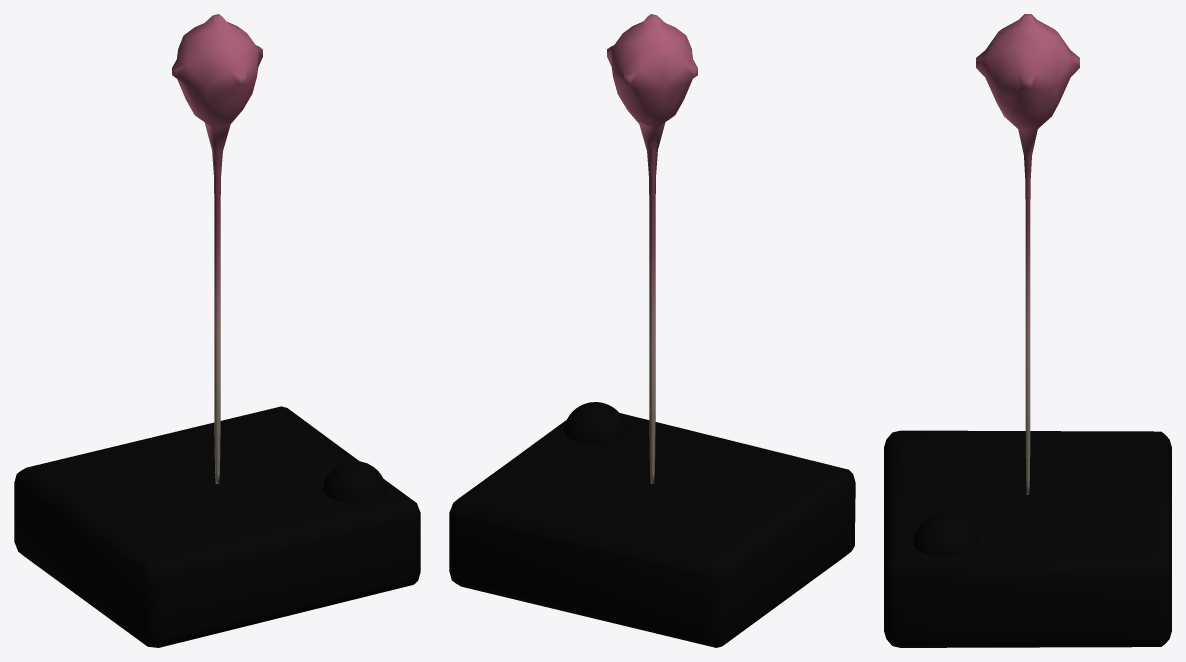
File: lever.glb
3 views of the same model, side by side, from view 1: azimuth 30°, elevation 25°; view 2: azimuth 150°, elevation 25°; view 3: azimuth 270°, elevation 25° (orthographic). The views are drawn at different scales.
Parts seen in each view (by area): view 1: lever_base, handle, lamp; view 2: lever_base, handle, lamp; view 3: lever_base, handle, lamp.
Boxes of the visible parts, box(x1,y1,x2,y2) form: lever_base: box(14, 406, 420, 647); handle: box(172, 14, 262, 484); lamp: box(323, 461, 386, 502); lever_base: box(449, 413, 855, 647); handle: box(607, 14, 697, 483); lamp: box(563, 402, 626, 443); lever_base: box(884, 430, 1171, 647); handle: box(976, 14, 1079, 494); lamp: box(913, 514, 978, 556).
Bounding box in the file's own units: 0.8 × 1.53 × 0.7.
2 materials, 2 textured.
